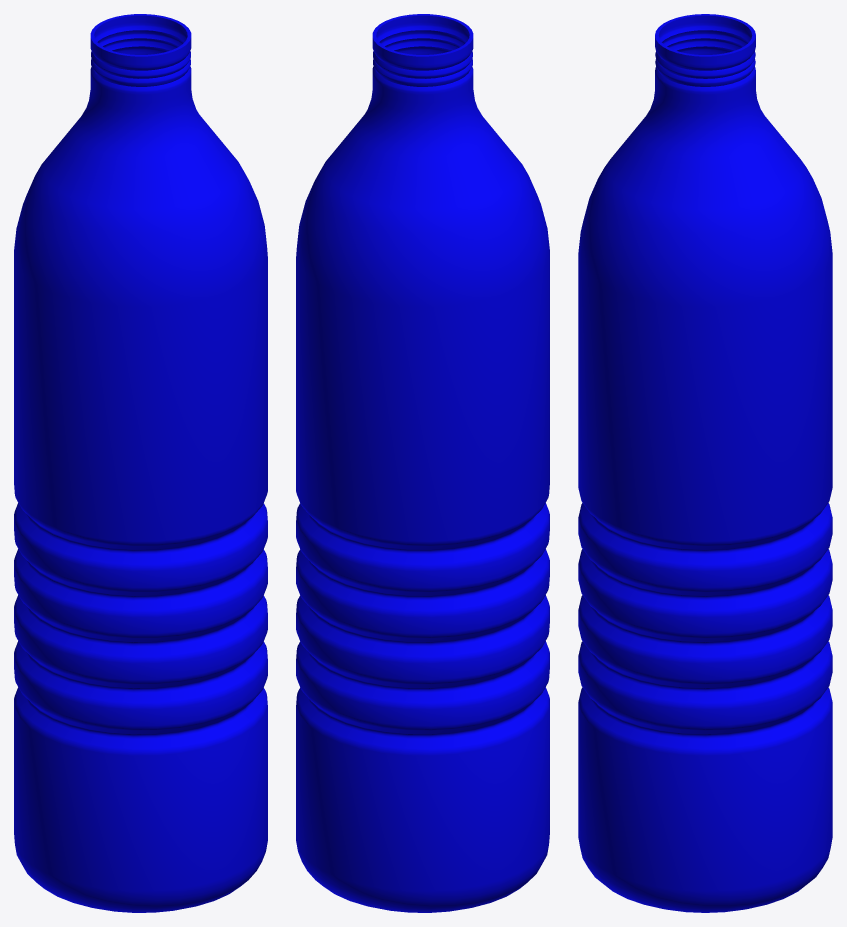
Rendered from Plastic Bottle.fbx.
3 renders of one model, left to right at view 1: azimuth 30°, elevation 25°; view 2: azimuth 150°, elevation 25°; view 3: azimuth 270°, elevation 25°, orthographic.
Parts seen in each view (by area): view 1: Plastic Bottle; view 2: Plastic Bottle; view 3: Plastic Bottle.
Boxes of the visible parts, x1=… form: Plastic Bottle: x1=14, y1=14, x2=267, y2=912; Plastic Bottle: x1=296, y1=14, x2=549, y2=912; Plastic Bottle: x1=578, y1=14, x2=832, y2=912.
Size of the model in its own units: 5.94 by 21.56 by 5.94.
